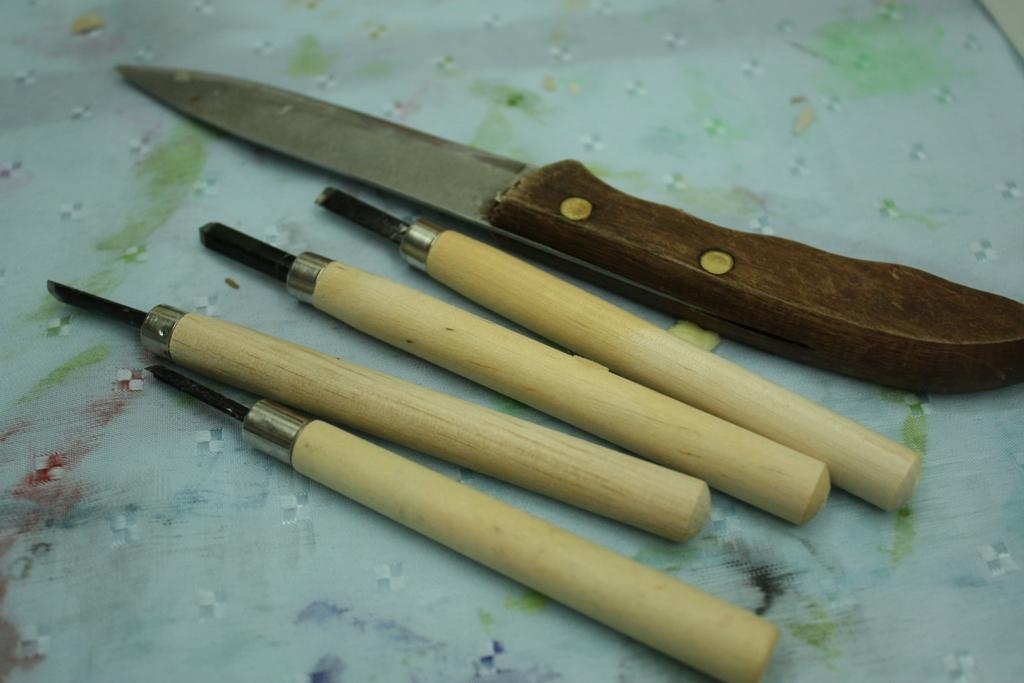knife: (119, 62, 1023, 403)
